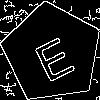E: (27, 28, 78, 84)
